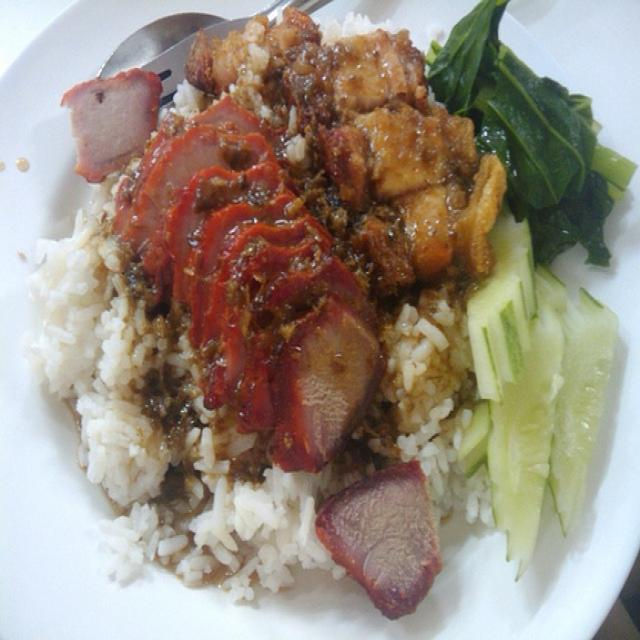猪肉菜式: (30, 27, 629, 620)
